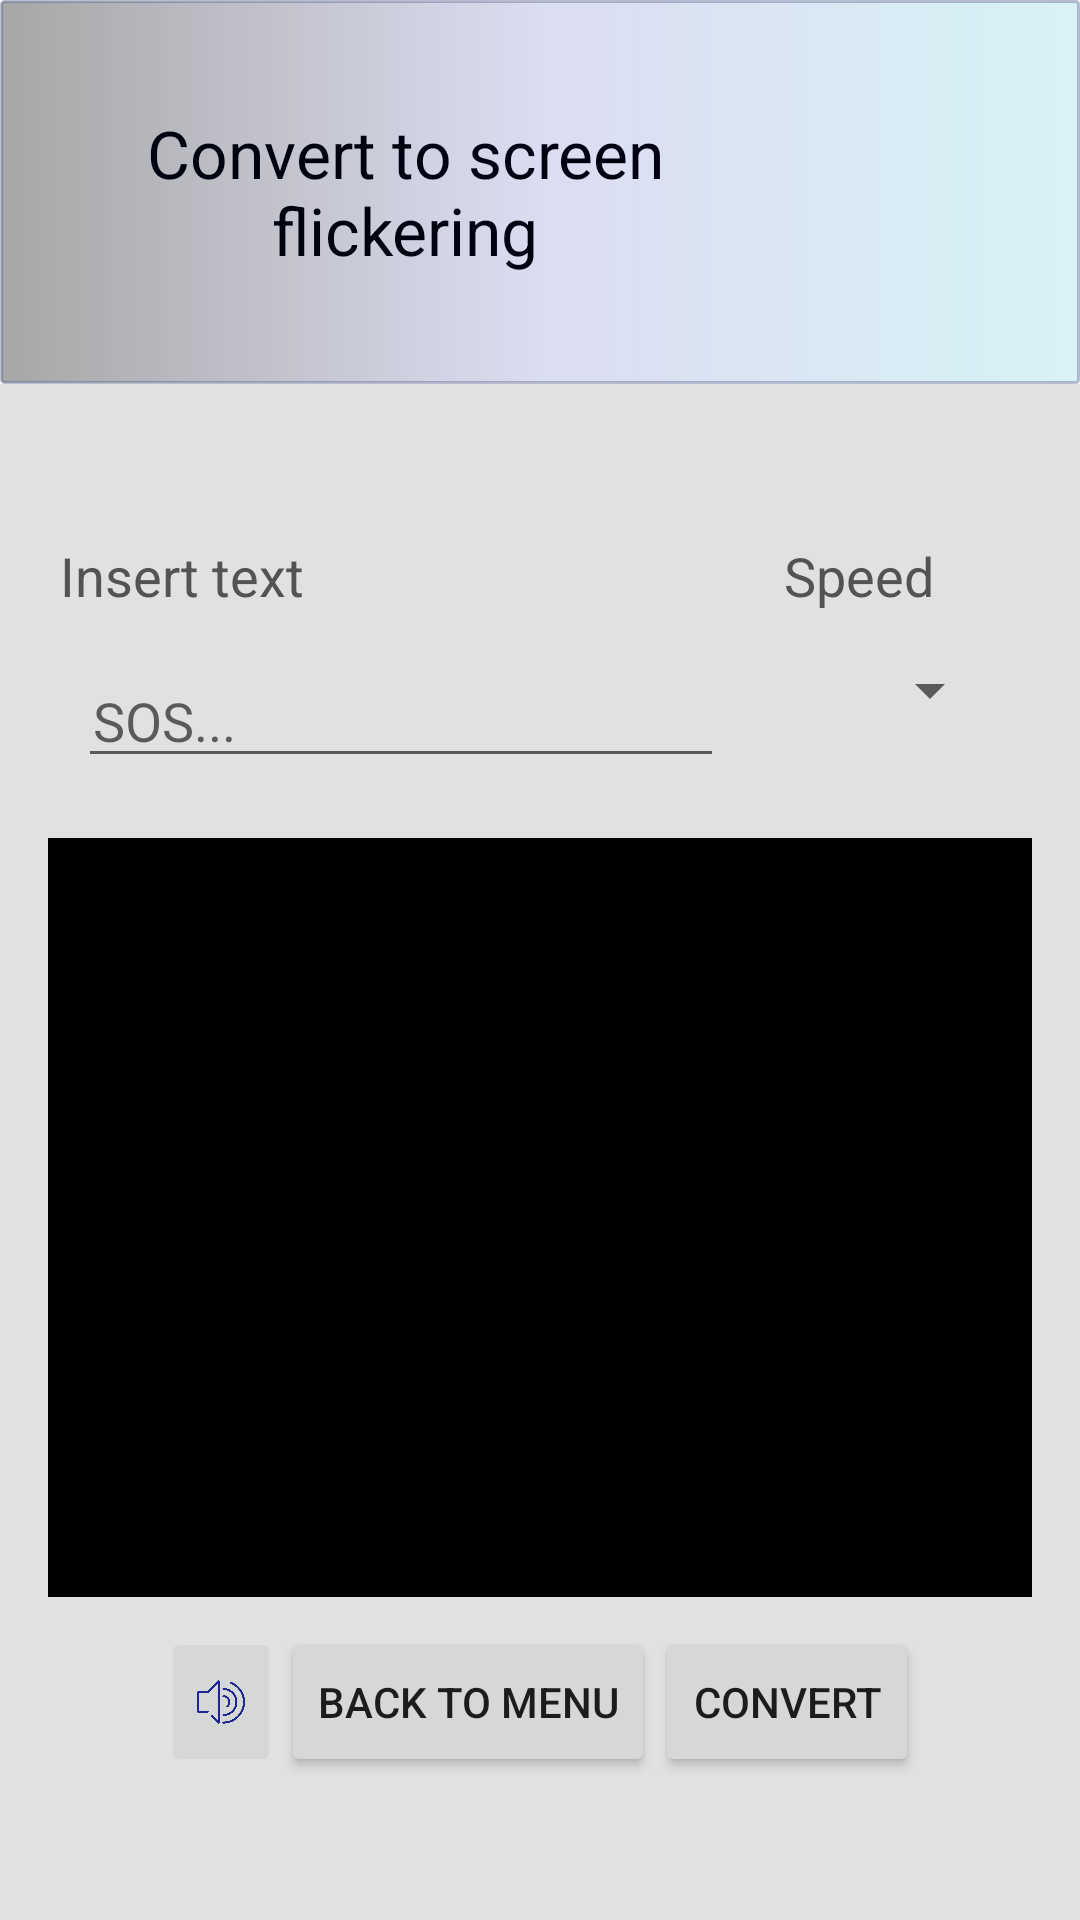

Icon click points for this 1080x1920 phone screenshot, format (x,y):
sound on: (221,1702)
